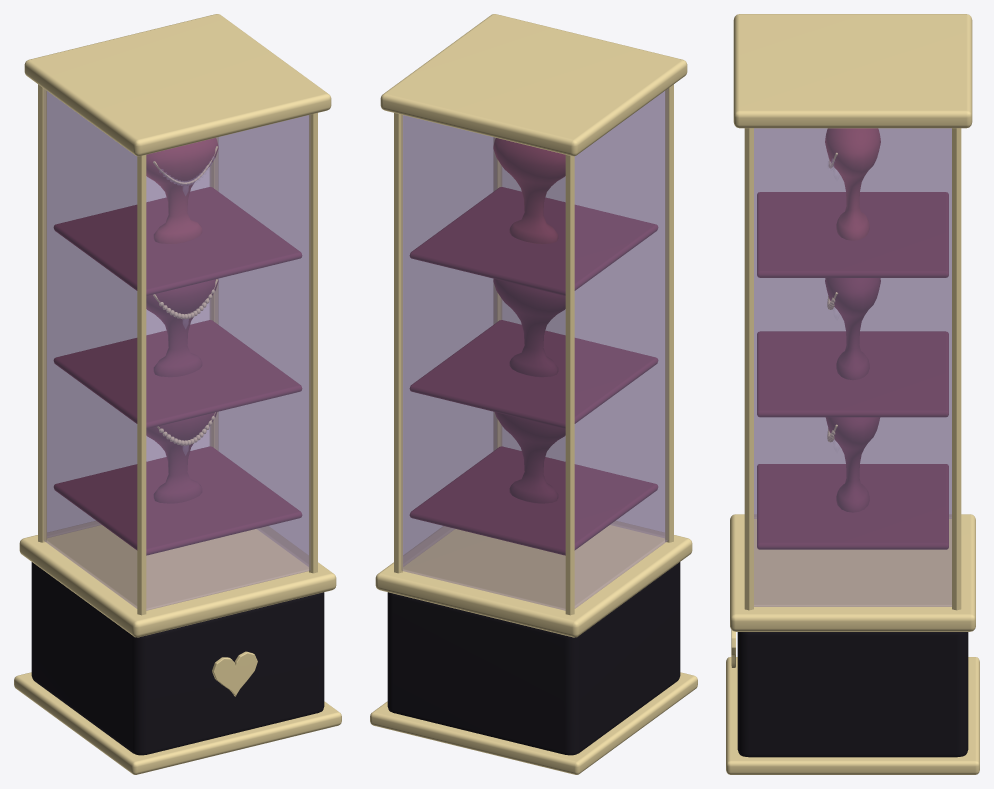
File: case_tower_glass.glb
The picture shows the model from 3 angles, left to right: view 1: azimuth 30°, elevation 25°; view 2: azimuth 150°, elevation 25°; view 3: azimuth 270°, elevation 25°; orthographic projection. The views are drawn at different scales.
Visible parts, largest first — view 1: case_tower_glass; view 2: case_tower_glass; view 3: case_tower_glass.
Part boxes in pixels (box(x1,y1,x2,y2)): case_tower_glass: box(14, 14, 341, 774); case_tower_glass: box(370, 14, 697, 774); case_tower_glass: box(726, 14, 979, 774).
Size of the model in its own units: 0.66 by 1.89 by 0.66.
